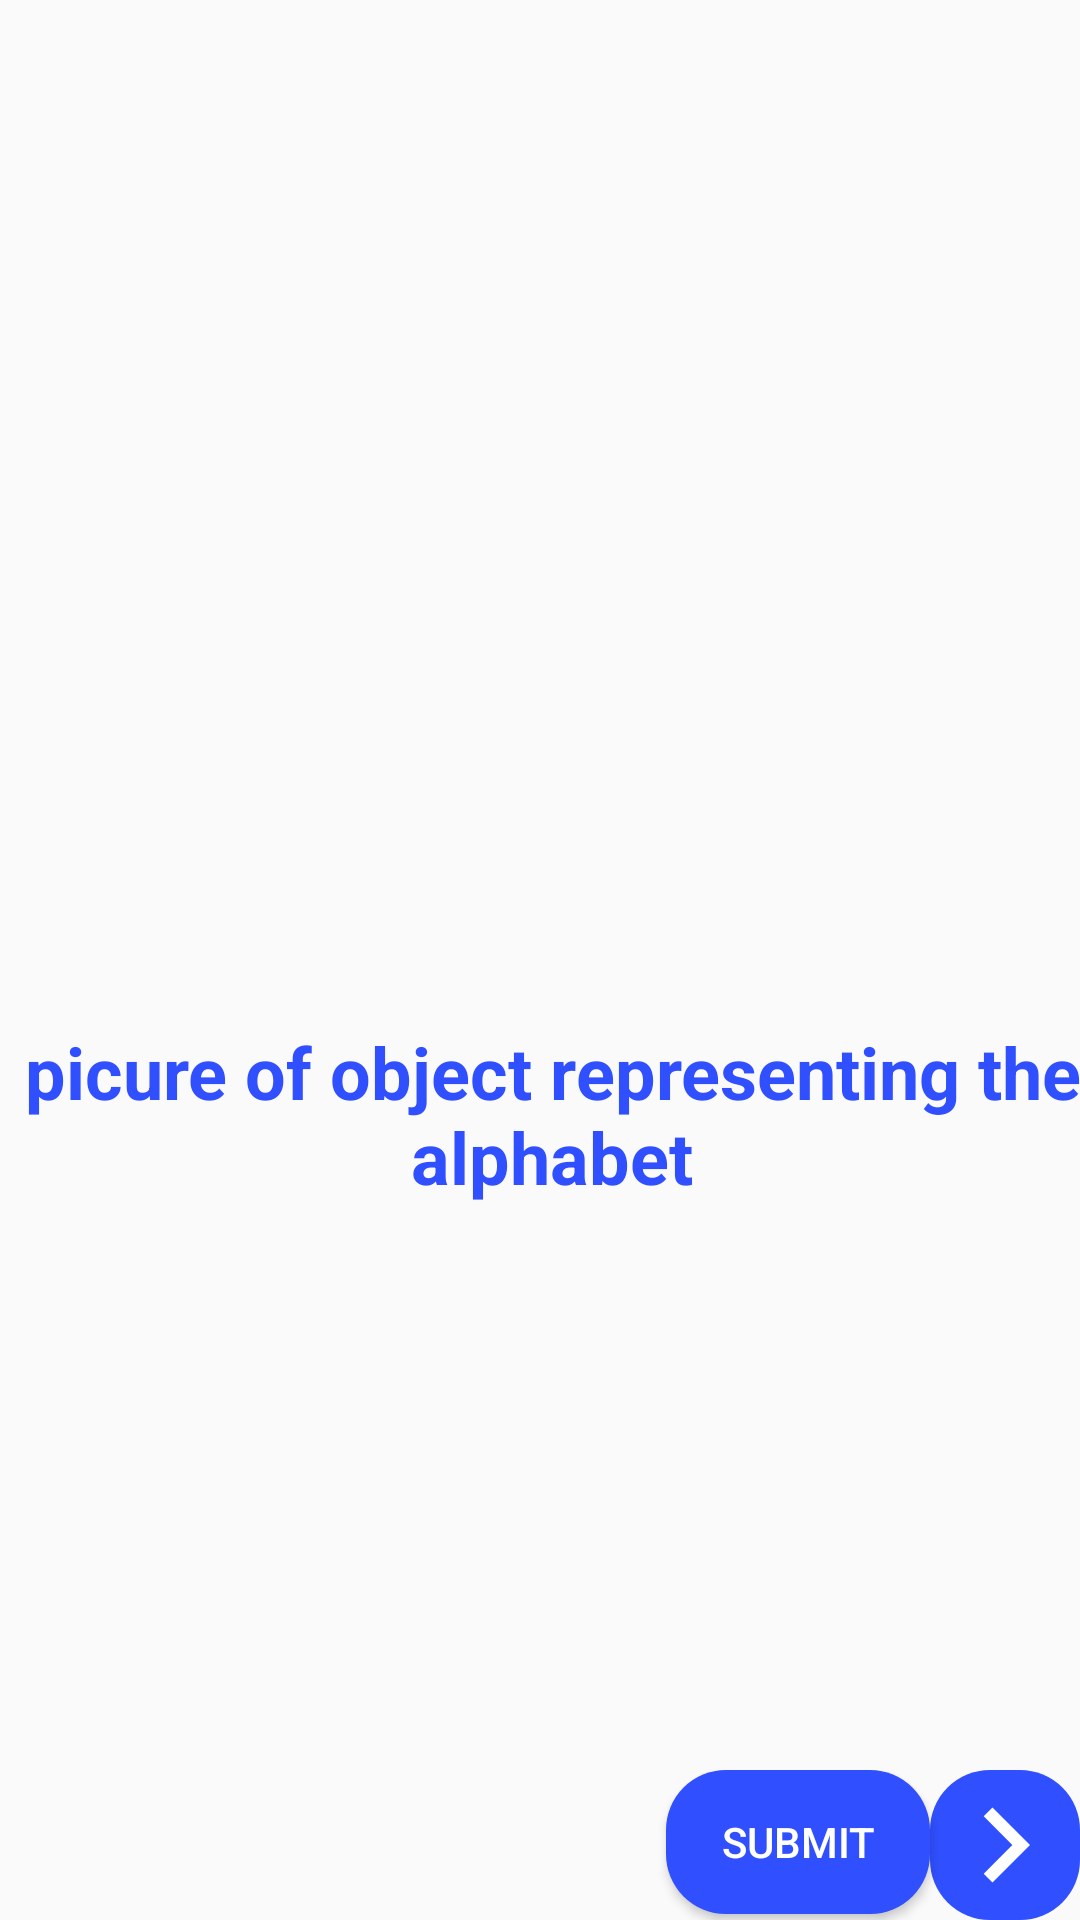

Icon click points for this 1080w x 1920h phone screenshot, format [x,y]:
navigate next: [1005,1845]
